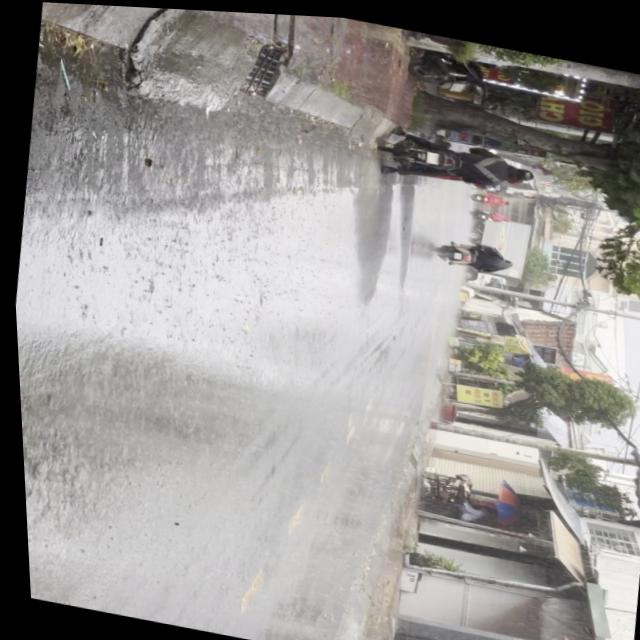helmet: (503, 160, 534, 181)
licenseplate: (373, 122, 539, 199)
nohelmet: (422, 147, 436, 161)
